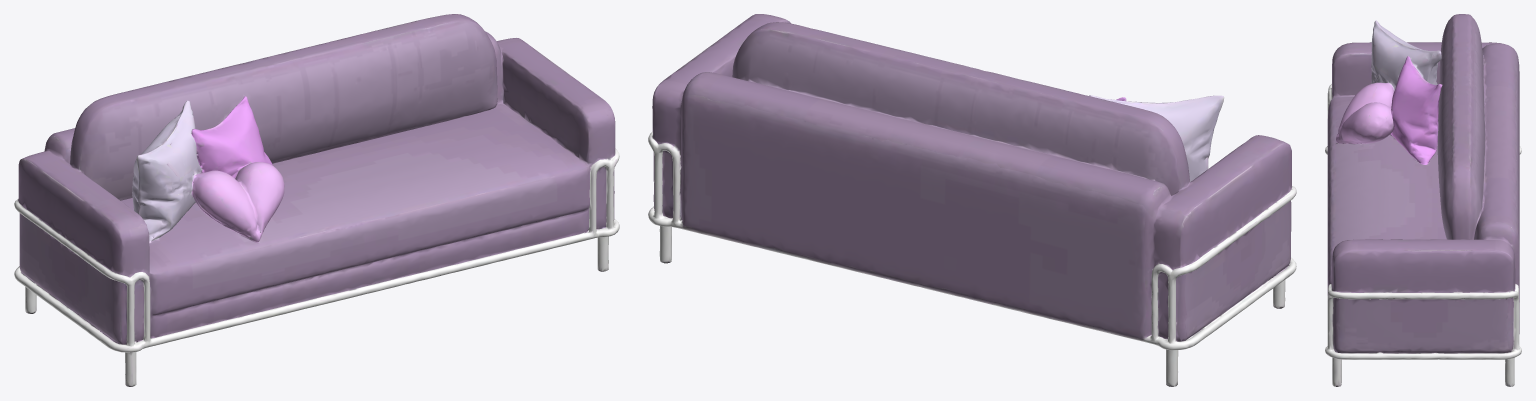
Rendered from cloud-sofa.glb.
3 views of the same model, side by side, from view 1: azimuth 30°, elevation 25°; view 2: azimuth 150°, elevation 25°; view 3: azimuth 270°, elevation 25° (orthographic). The views are drawn at different scales.
Visible parts, largest first — view 1: world; view 2: world; view 3: world.
Part boxes in pixels (box(x1,y1,x2,y2)): world: box(14, 14, 619, 386); world: box(648, 14, 1296, 386); world: box(1325, 14, 1521, 386).
Size of the model in its own units: 1 by 0.4143 by 0.3872.
Materials: 1 (1 with a texture image).
